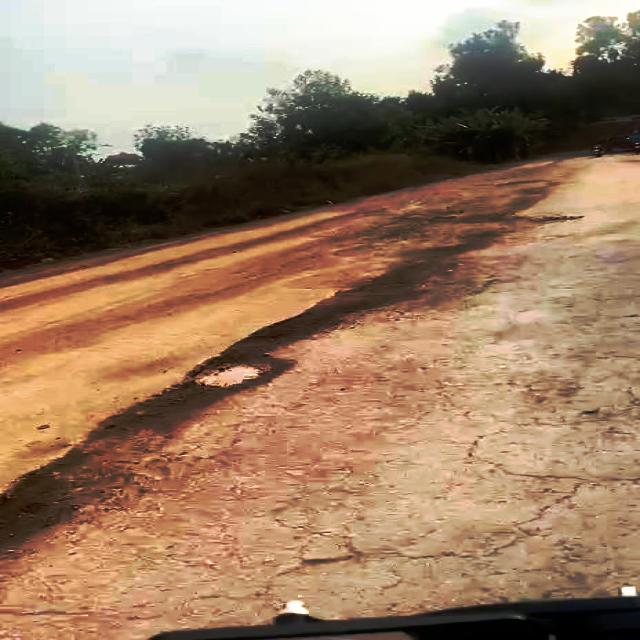pothole: (0, 403, 199, 537), (247, 254, 450, 344), (185, 355, 305, 393)
